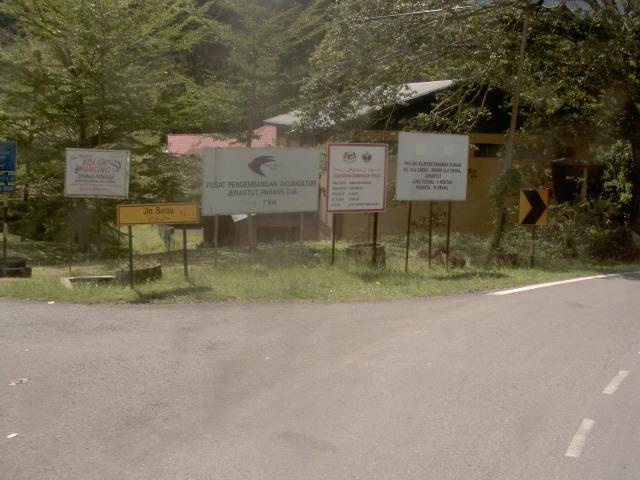traffic_sign: (512, 179, 555, 234)
